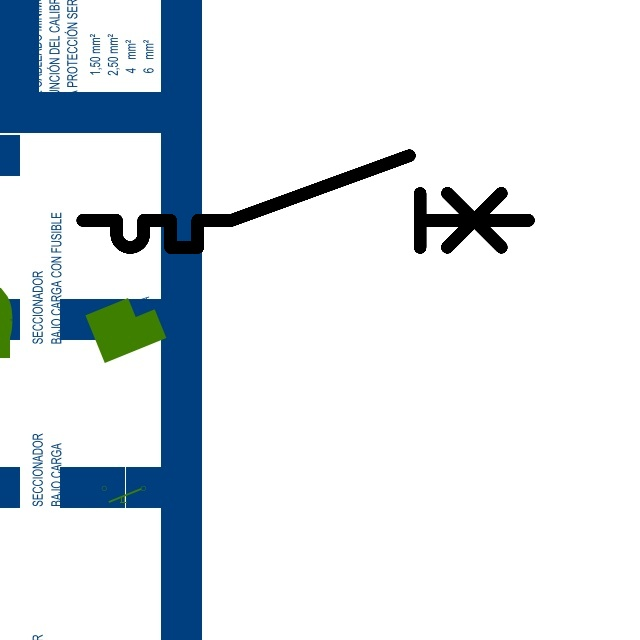interruptor_termomagnetico: (71, 144, 539, 259)
